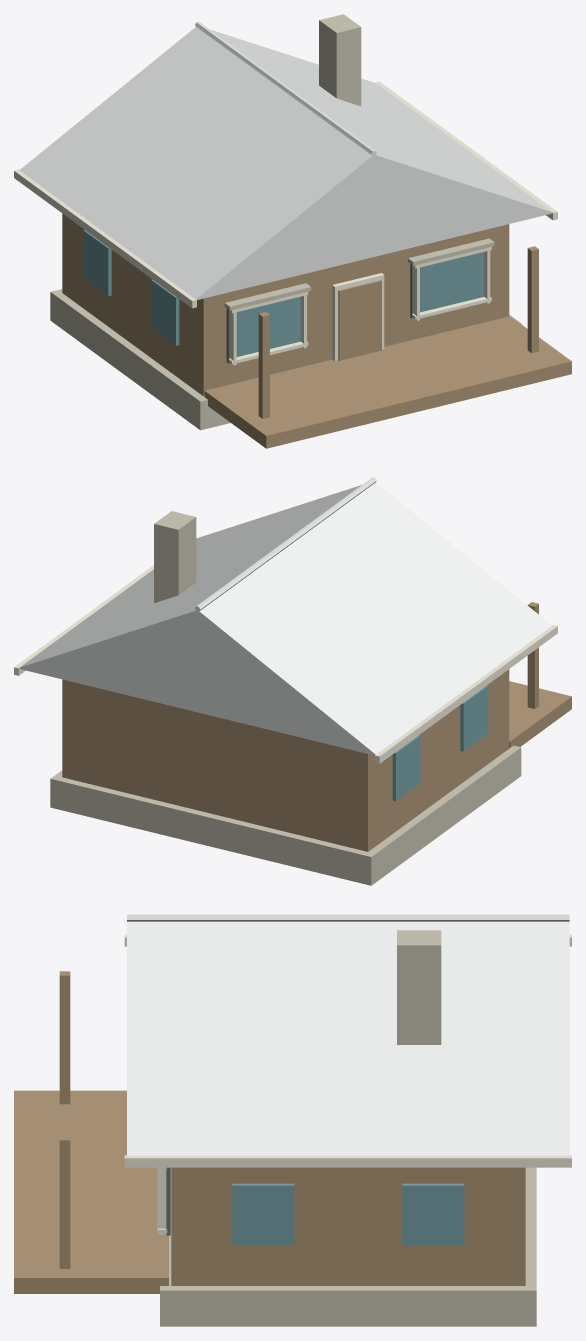
3 renders of one model, top to bottom at view 1: azimuth 30°, elevation 25°; view 2: azimuth 150°, elevation 25°; view 3: azimuth 270°, elevation 25°, orthographic. The views are drawn at different scales.
Size of the model in its own units: 11.96 by 8.5 by 12.6.
